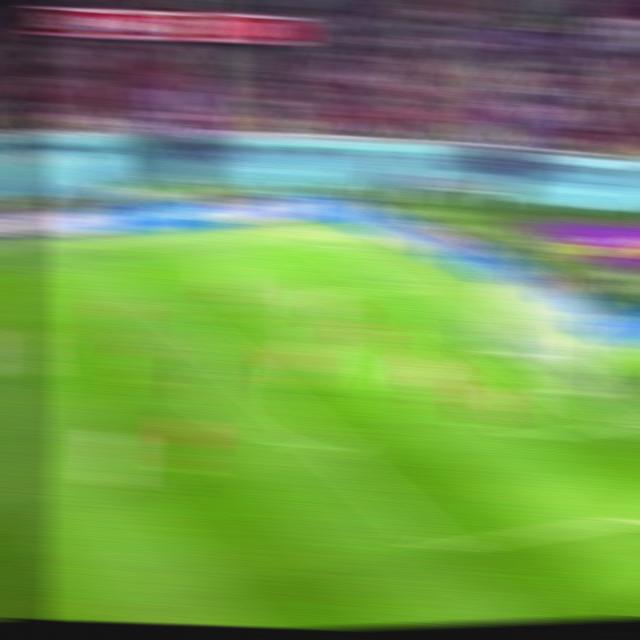bigarea_bottom_inner: (416, 529, 467, 564)
bigarea_top_inner: (147, 296, 191, 320)
bigarea_top_outter: (370, 277, 411, 298)
bottom_arc_area_intersection: (306, 432, 353, 463)
corner: (293, 235, 337, 252)
smallarea_bottom_inner: (508, 419, 554, 452)
smallarea_bottom_outter: (595, 412, 639, 437)
smallarea_top_inner: (368, 327, 409, 350)
smallarea_top_outter: (441, 317, 483, 342)
top_arc_area_intersection: (213, 351, 257, 379)
